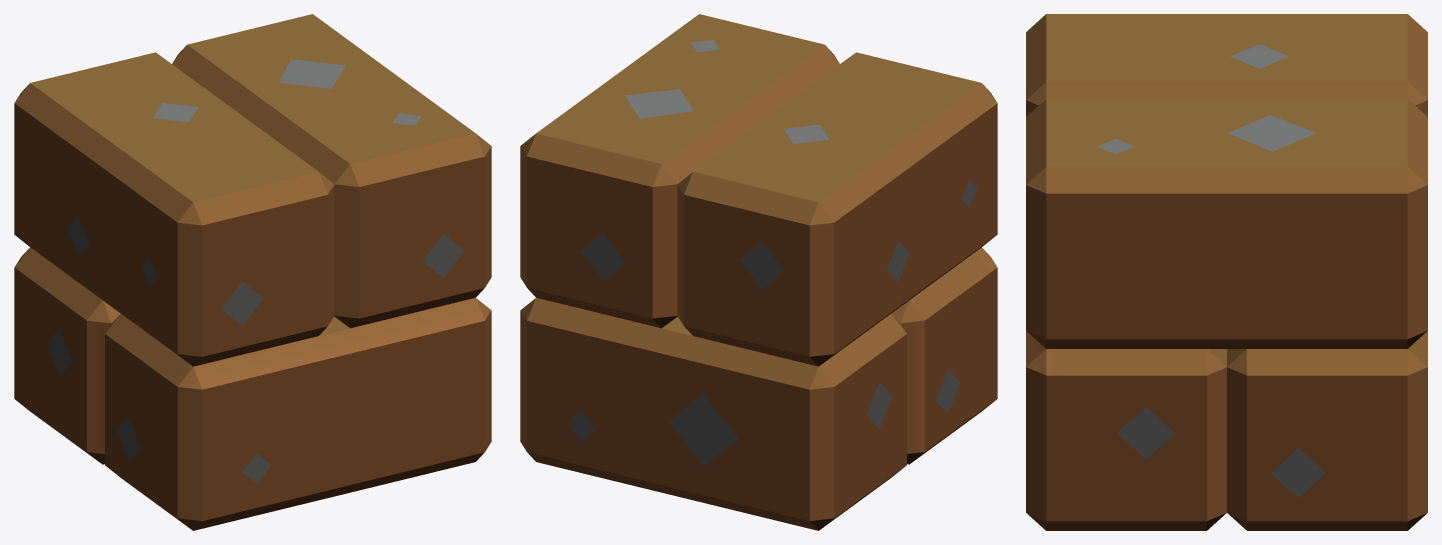
File: m_kub_dirt_brickPile.FBX
3 views of the same model, side by side, from view 1: azimuth 30°, elevation 25°; view 2: azimuth 150°, elevation 25°; view 3: azimuth 270°, elevation 25° (orthographic). The views are drawn at different scales.
Parts seen in each view (by area): view 1: m_kub_dirt_brickPile; view 2: m_kub_dirt_brickPile; view 3: m_kub_dirt_brickPile.
Boxes of the visible parts, bbox=[...] form: m_kub_dirt_brickPile: bbox=[14, 14, 491, 530]; m_kub_dirt_brickPile: bbox=[520, 14, 997, 530]; m_kub_dirt_brickPile: bbox=[1026, 14, 1427, 530].
Bounding box in the file's own units: 2 × 2 × 2.
